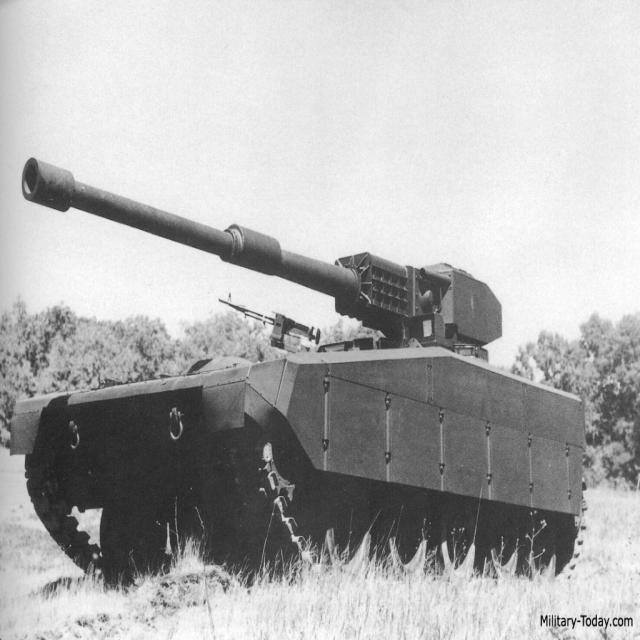Tank: (19, 155, 594, 588)
